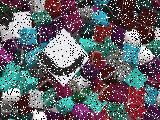Left: (36, 28, 90, 86)
